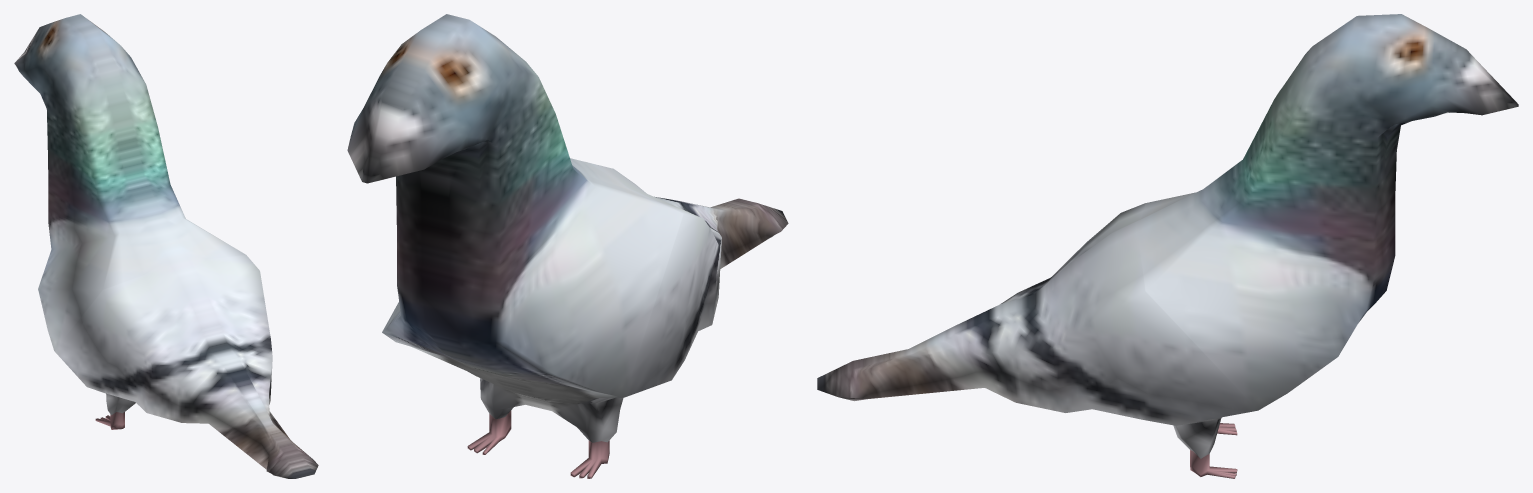
File: pigen.fbx
3 views of the same model, side by side, from view 1: azimuth 30°, elevation 25°; view 2: azimuth 150°, elevation 25°; view 3: azimuth 270°, elevation 25° (orthographic). The views are drawn at different scales.
Visible parts, largest first — view 1: Plane; view 2: Plane; view 3: Plane.
Boxes of the visible parts, box(x1,y1,x2,y2) form: Plane: box(14, 14, 318, 478); Plane: box(347, 14, 788, 478); Plane: box(817, 14, 1518, 478).
Size of the model in its own units: 36.42 by 79.87 by 116.
1 material, 1 textured.
